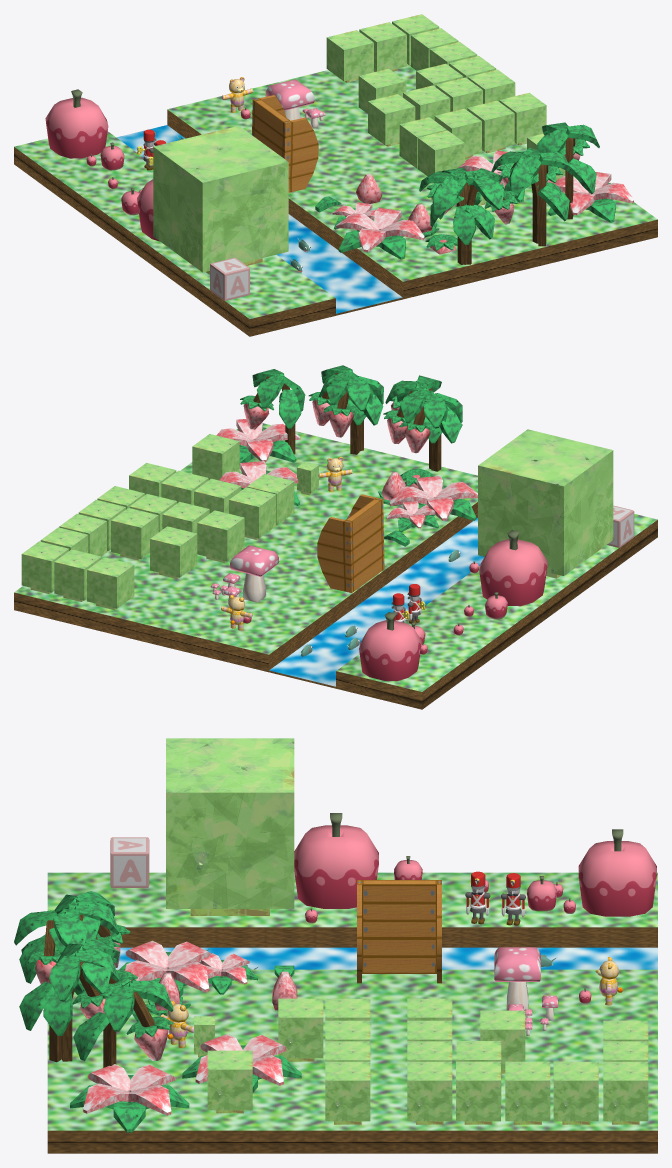
File: Maps.fbx
3 views of the same model, one above another, from view 1: azimuth 30°, elevation 25°; view 2: azimuth 150°, elevation 25°; view 3: azimuth 270°, elevation 25° (orthographic). The views are drawn at different scales.
Visible parts, largest first — view 1: Ground, pCube68, pCube9, Apple4, pCube62, pCube66, pCube55, pCube65, pCube75, pCube64, pCube11, pCube26 (+25 smaller); view 2: Ground, pCube68, pCube9, Apple10, Apple4, pCube66, pCube53, pCube67, pCube62, pCube64, pCube69, pCube75 (+27 smaller); view 3: Ground, pCube68, pCube9, Apple10, Apple4, pCube66, pCube64, pCube65, pCube67, pCube62, pCube72, pCube20 (+30 smaller).
Boxes of the visible parts, x1,y1,x2,y2 form: Ground: (14, 64, 657, 336); pCube68: (153, 125, 288, 274); pCube9: (252, 95, 318, 192); Apple4: (45, 89, 108, 158); pCube62: (335, 207, 424, 259); pCube66: (537, 122, 599, 219); pCube55: (453, 168, 518, 264); pCube65: (510, 149, 572, 246); pCube75: (326, 30, 373, 82); pCube64: (548, 172, 633, 222); pCube11: (368, 94, 415, 146); pCube26: (417, 130, 464, 176); Ground: (14, 423, 657, 709); pCube68: (478, 429, 613, 578); pCube9: (317, 494, 384, 592); Apple10: (479, 530, 547, 606); Apple4: (359, 612, 421, 681); pCube66: (240, 369, 305, 454); pCube53: (398, 390, 462, 471); pCube67: (319, 374, 383, 454); pCube62: (389, 476, 477, 527); pCube64: (216, 419, 300, 465); pCube69: (150, 526, 197, 578); pCube75: (87, 557, 134, 609); Ground: (47, 872, 657, 1153); pCube68: (166, 738, 294, 915); pCube9: (357, 880, 441, 983); Apple10: (294, 813, 378, 908); Apple4: (578, 829, 656, 916); pCube66: (73, 978, 173, 1067); pCube64: (70, 1064, 189, 1132); pCube65: (19, 950, 119, 1062); pCube67: (43, 938, 137, 1061); pCube62: (118, 940, 216, 997); pCube72: (553, 1061, 598, 1124); pCube20: (407, 1061, 452, 1124).
Size of the model in its own units: 24.45 by 7.08 by 25.54.
